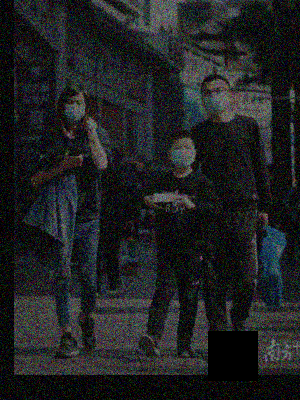with_mask: (202, 86, 231, 114), (171, 143, 196, 168), (63, 98, 86, 123)
